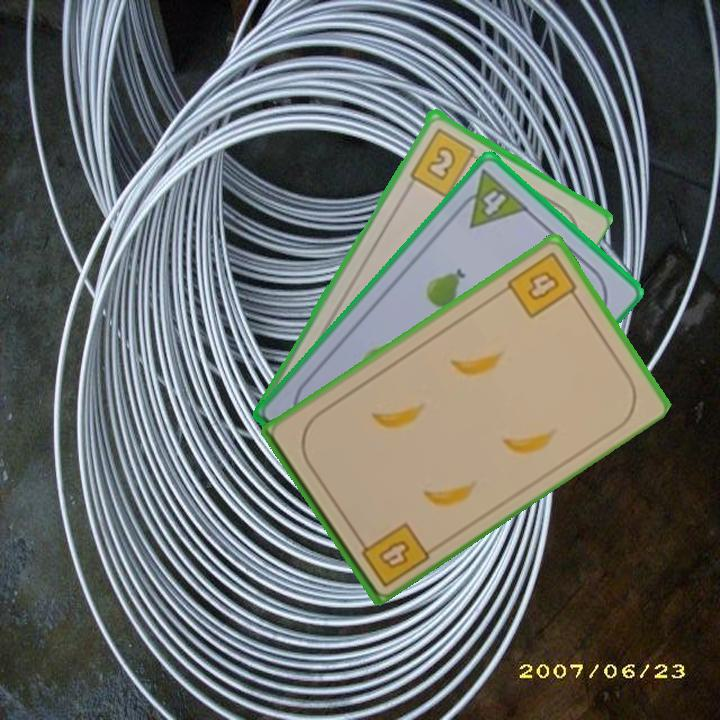2b: (405, 124, 484, 200)
4b: (503, 248, 583, 321), (352, 518, 432, 590)
4p: (450, 165, 531, 231)
